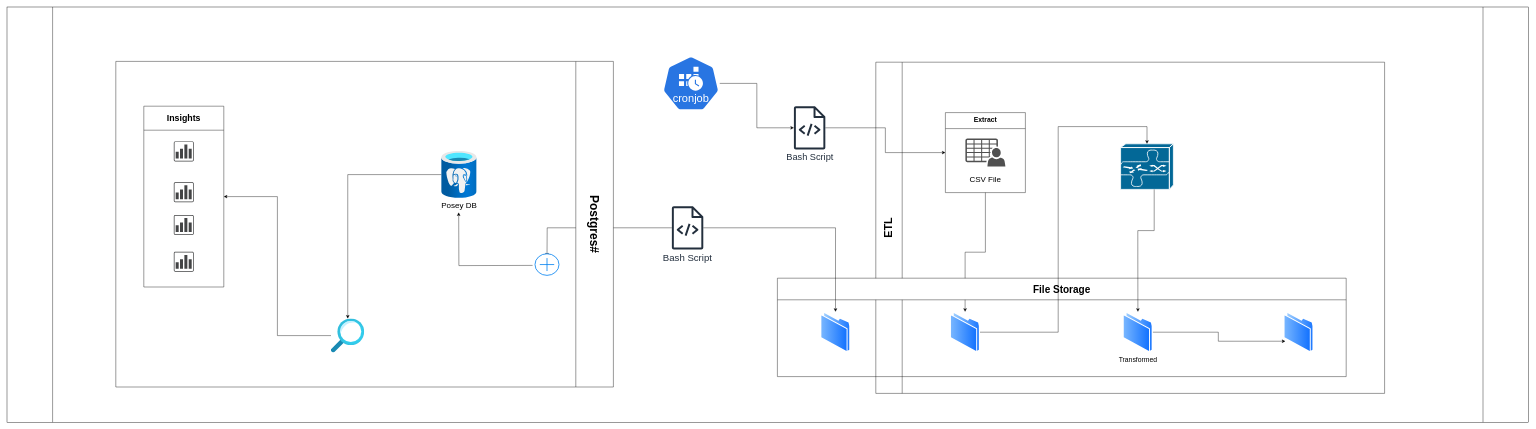
The diagram is 1536 pixels wide and 429 high, and some of its shapes have lost their labels. The shapes that lost their labels are listed below. From the top down, each one's centre as x and y in pixels, then its label:
At (1147,166): "Data Transformation".
At (347,335): "Queries".
At (835,332): "Parch and Posey Database Dump".
At (965,332): "Raw".
At (1298,332): "Gold".
